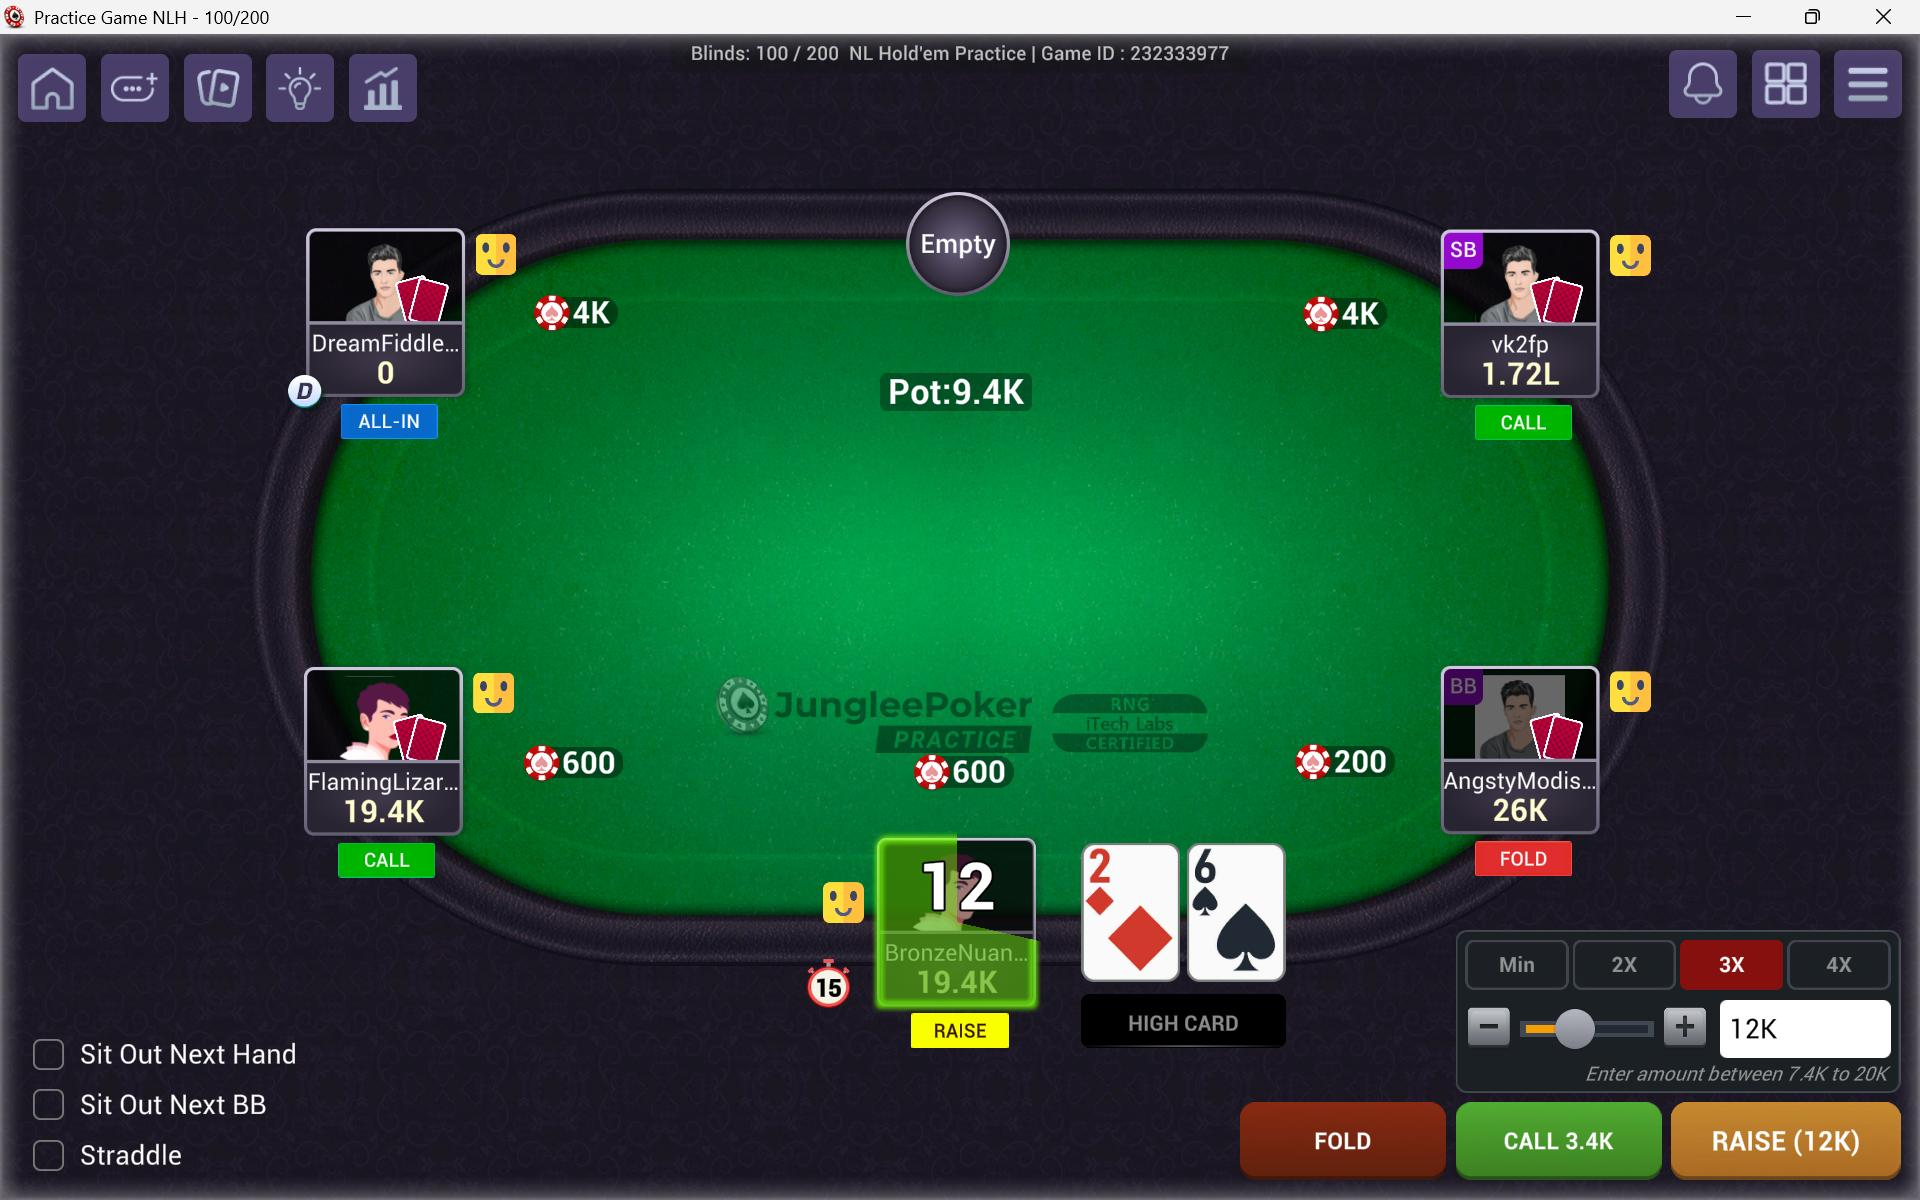button_call: (1460, 1103, 1666, 1178)
button_fold: (1240, 1098, 1451, 1181)
button_raise: (1675, 1109, 1903, 1172)
card1_rank: (1085, 841, 1145, 896)
card1_suite_diamond: (1100, 890, 1176, 979)
card2_rank: (1193, 846, 1270, 890)
card2_suite_spades: (1212, 883, 1290, 983)
game_id: (1030, 32, 1241, 77)
iinput_field: (1722, 995, 1888, 1060)
my_bet: (905, 751, 1016, 798)
my_stack: (881, 958, 1031, 1002)
position_BB: (1440, 664, 1497, 712)
position_SB: (1444, 232, 1493, 279)
total_pot: (875, 366, 1037, 415)
villian1_bet: (517, 738, 623, 784)
villian1_name: (307, 759, 456, 800)
villian1_stack: (305, 794, 464, 835)
villian2_bet: (525, 289, 625, 339)
villian2_name: (305, 318, 462, 366)
villian2_stack: (307, 354, 467, 395)
villian4_name: (1444, 324, 1602, 357)
villian4_stack: (1450, 351, 1602, 395)
villian5_name: (1440, 756, 1598, 802)
villian5_stack: (1444, 791, 1597, 832)
